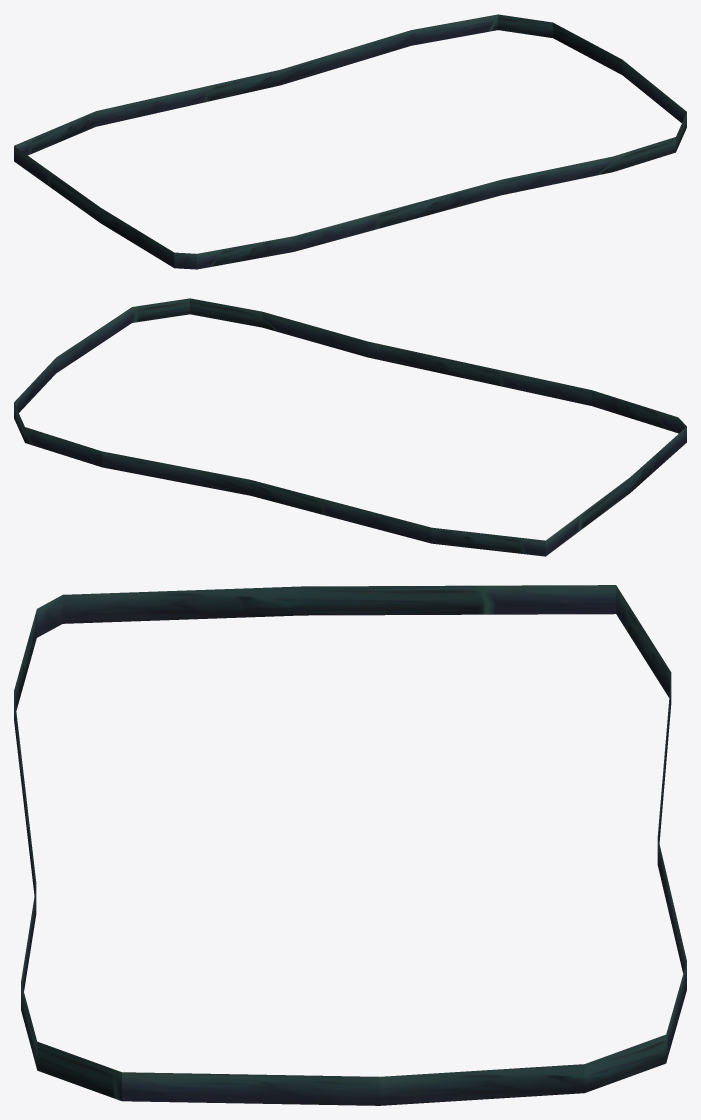
The model's file is CZPlat_1_Lat.gltf.
3 renders of one model, top to bottom at view 1: azimuth 30°, elevation 25°; view 2: azimuth 150°, elevation 25°; view 3: azimuth 270°, elevation 25°, orthographic. The views are drawn at different scales.
Visible parts, largest first — view 1: CZPlat_1_Lat; view 2: CZPlat_1_Lat; view 3: CZPlat_1_Lat.
Boxes of the visible parts, x1,y1,x2,y2 form: CZPlat_1_Lat: (14, 14, 686, 269); CZPlat_1_Lat: (14, 298, 686, 556); CZPlat_1_Lat: (14, 585, 686, 1105).
Bounding box in the file's own units: 69.28 × 1.91 × 40.07.
1 material, 1 textured.
